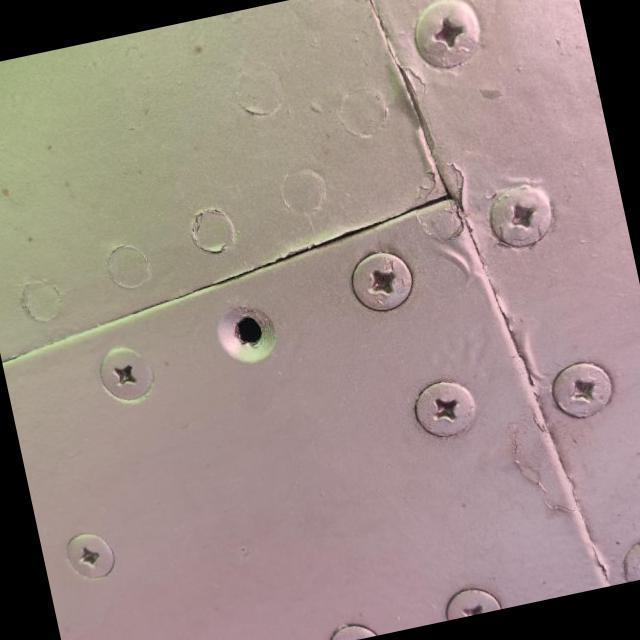Fastener Damage: (164, 260, 320, 409)
